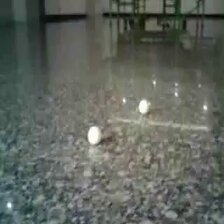w: (86, 126, 102, 146), (138, 100, 150, 112)
